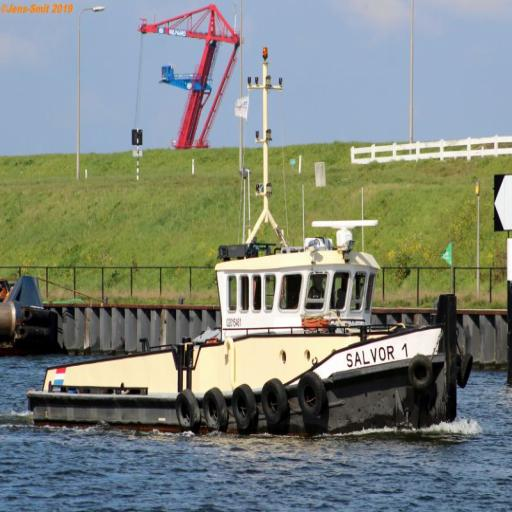tugboat: (24, 47, 476, 448)
